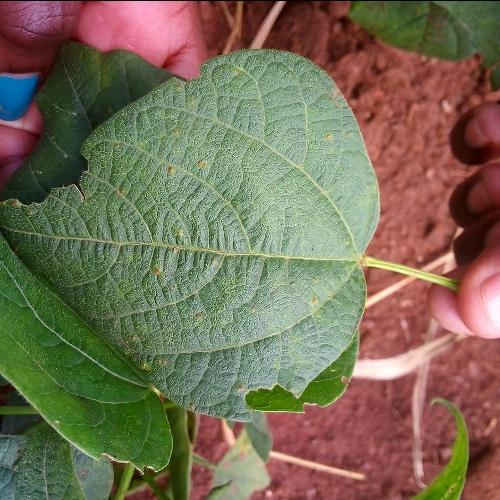mozaik: (1, 40, 380, 422)
